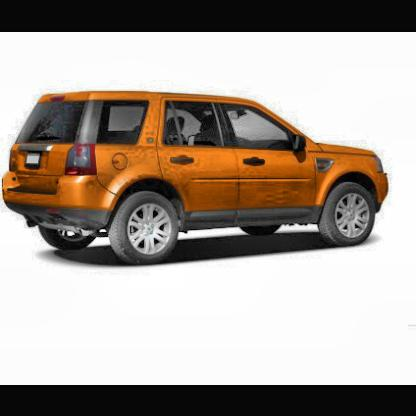Land Rover LR2 SUV 2012: (2, 90, 393, 267)
